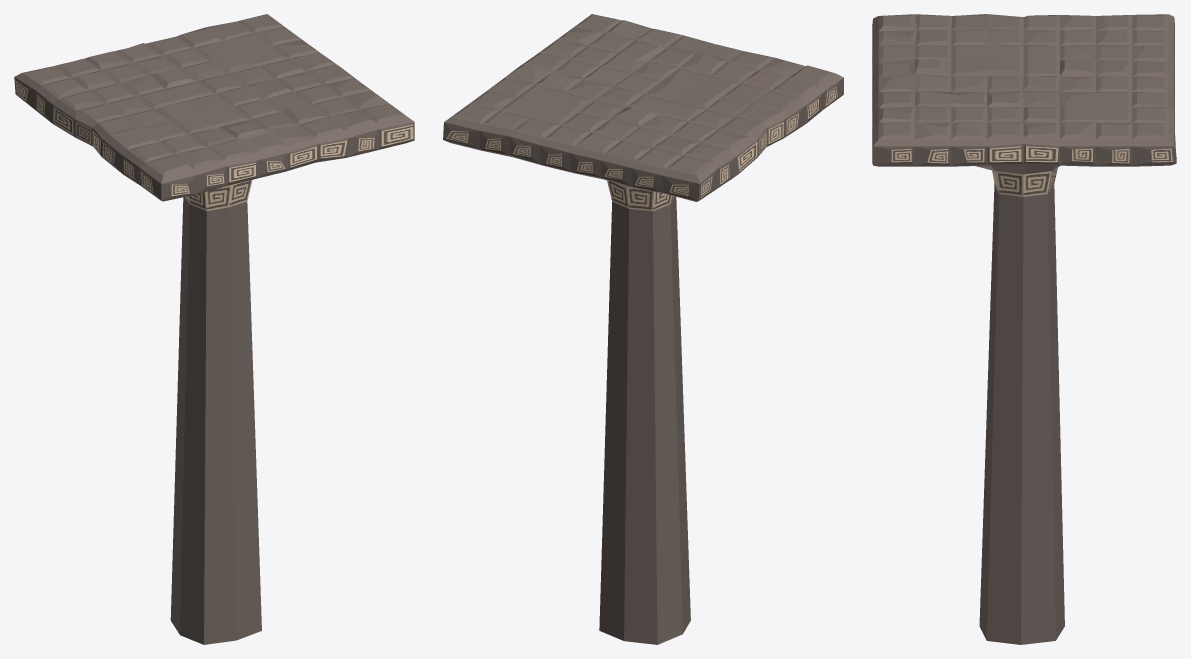
File: bridge.fbx
3 renders of one model, left to right at view 1: azimuth 30°, elevation 25°; view 2: azimuth 150°, elevation 25°; view 3: azimuth 270°, elevation 25°, orthographic. The views are drawn at different scales.
Visible parts, largest first — view 1: BridgeModel; view 2: BridgeModel; view 3: BridgeModel.
Part boxes in pixels (x1,y1,x2,y2): BridgeModel: (14, 14, 414, 644); BridgeModel: (443, 14, 843, 644); BridgeModel: (872, 14, 1176, 644).
Bounding box in the file's own units: 202 × 201 × 403.
